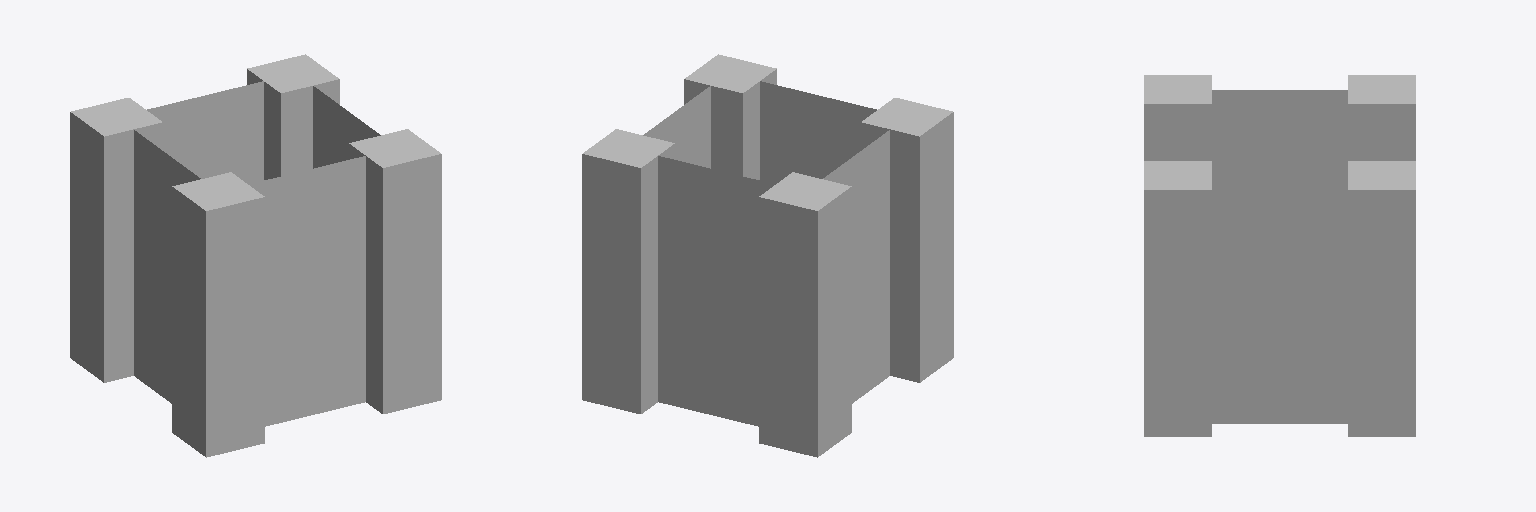
The model's file is conveyor_chute_1.obj.
3 views of the same model, side by side, from view 1: azimuth 30°, elevation 25°; view 2: azimuth 150°, elevation 25°; view 3: azimuth 270°, elevation 25° (orthographic).
Parts seen in each view (by area): view 1: r3, o4, o3, o1, r4, r1, o2, r2; view 2: r1, o1, o2, o4, r4, r3, o3, r2; view 3: r2, o2, o3, r4, o1, o4.
Part boxes in pixels (bbox=[...]): r3: bbox=[248, 156, 365, 426]; o4: bbox=[172, 172, 264, 457]; o3: bbox=[349, 129, 441, 413]; o1: bbox=[70, 98, 162, 382]; r4: bbox=[134, 130, 200, 403]; r1: bbox=[147, 81, 263, 183]; o2: bbox=[247, 54, 339, 179]; r2: bbox=[313, 86, 380, 168]; r1: bbox=[658, 156, 775, 426]; o1: bbox=[759, 172, 851, 457]; o2: bbox=[582, 129, 674, 413]; o4: bbox=[861, 98, 953, 382]; r4: bbox=[823, 130, 889, 403]; r3: bbox=[760, 81, 876, 183]; o3: bbox=[684, 54, 776, 179]; r2: bbox=[643, 86, 710, 168]; r2: bbox=[1212, 177, 1347, 423]; o2: bbox=[1348, 161, 1415, 436]; o3: bbox=[1144, 161, 1211, 436]; r4: bbox=[1212, 90, 1347, 176]; o1: bbox=[1348, 75, 1415, 160]; o4: bbox=[1144, 75, 1211, 160].
Size of the model in its own units: 1 by 1 by 1.